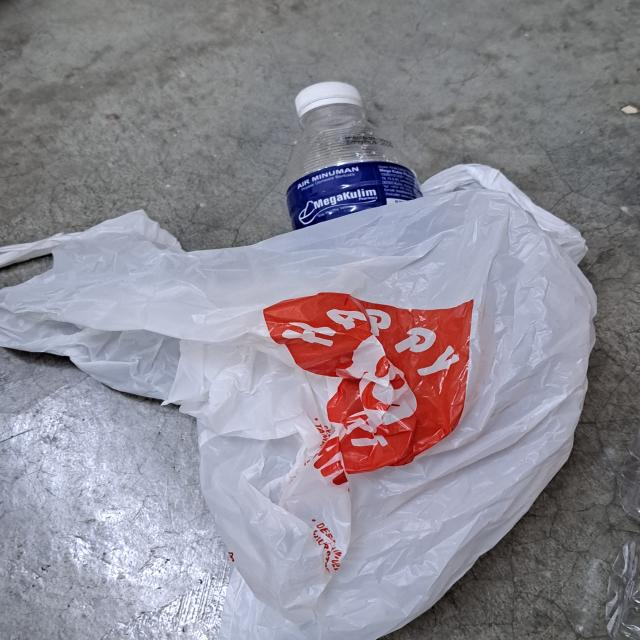plastic bag: (4, 164, 599, 640)
plastic bottle: (281, 113, 441, 259)
plastic bottle cap: (296, 74, 365, 118)
